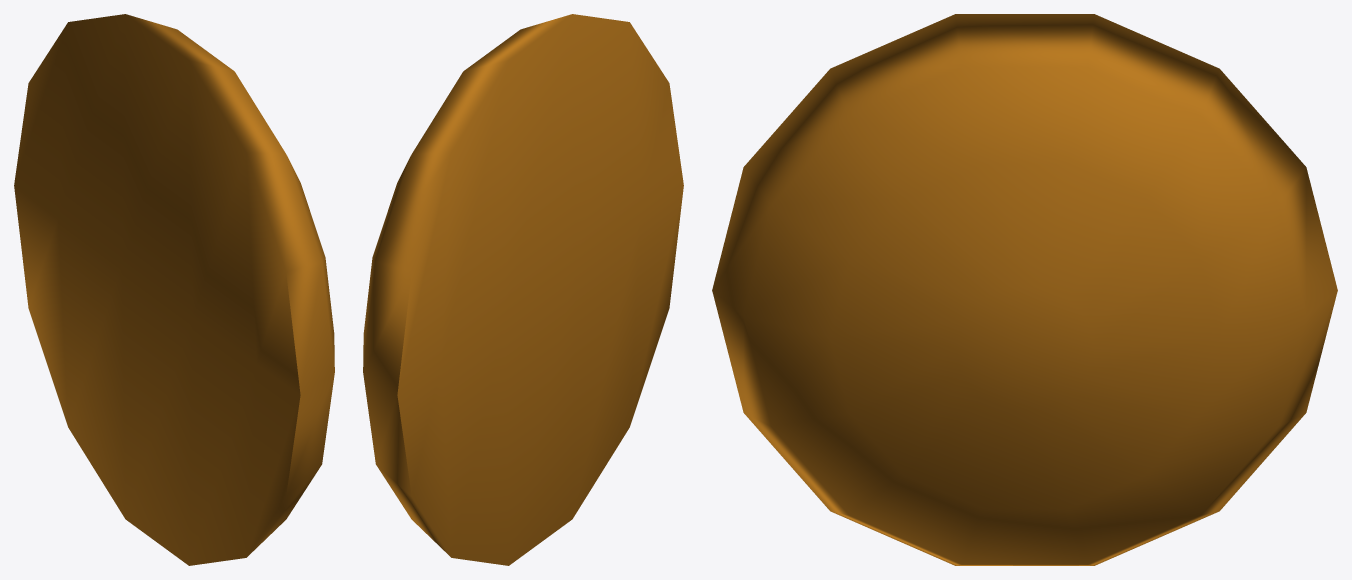
The model's file is Stationary_Target_Center.fbx.
The picture shows the model from 3 angles, left to right: view 1: azimuth 30°, elevation 25°; view 2: azimuth 150°, elevation 25°; view 3: azimuth 270°, elevation 25°; orthographic projection. The views are drawn at different scales.
Visible parts, largest first — view 1: Stationary_Target_Center; view 2: Stationary_Target_Center; view 3: Stationary_Target_Center.
Boxes of the visible parts, x1,y1,x2,y2 form: Stationary_Target_Center: (14, 14, 334, 565); Stationary_Target_Center: (363, 14, 683, 565); Stationary_Target_Center: (712, 14, 1337, 565).
Bounding box in the file's own units: 0.2545 × 1.09 × 1.12.
